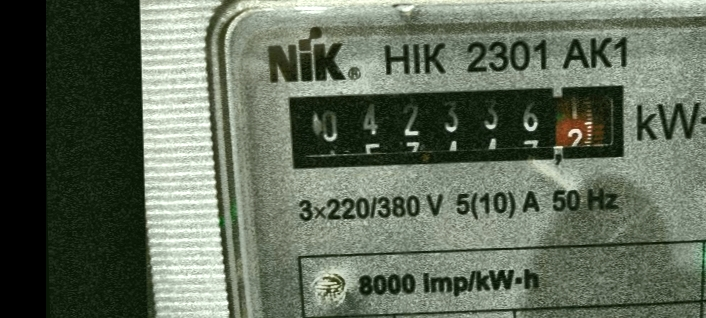0: (318, 110, 339, 146)
1: (566, 95, 579, 125)
2: (399, 104, 420, 141), (563, 129, 583, 151)
3: (440, 99, 460, 138), (478, 98, 499, 135)
4: (359, 102, 379, 140)
6: (517, 100, 540, 136)
screen: (279, 78, 634, 180)
